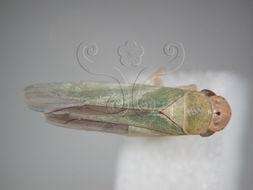pest: (24, 80, 234, 140)
